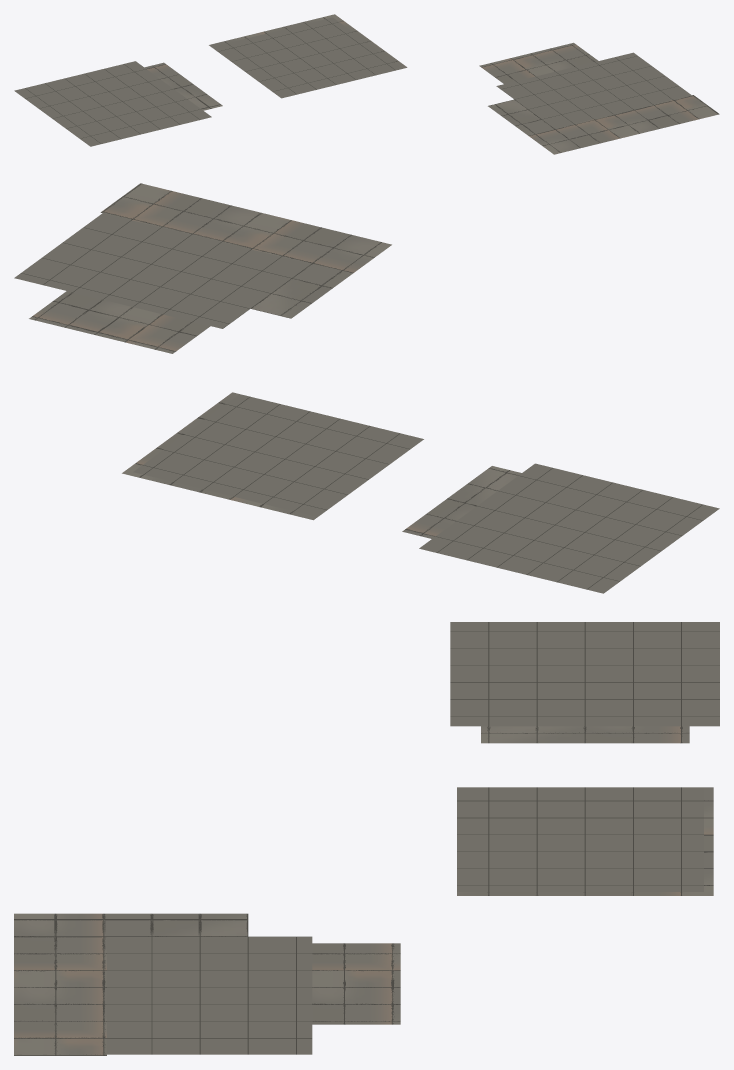
The model's file is colony-shared-floor-v001.glb.
The picture shows the model from 3 angles, top to bottom: view 1: azimuth 30°, elevation 25°; view 2: azimuth 150°, elevation 25°; view 3: azimuth 270°, elevation 25°; orthographic projection. The views are drawn at different scales.
Visible parts, largest first — view 1: ColonyFloor_Clean, ColonyFloor_Exterior; view 2: ColonyFloor_Clean, ColonyFloor_Exterior; view 3: ColonyFloor_Clean, ColonyFloor_Exterior.
Boxes of the visible parts, x1=… form: ColonyFloor_Clean: x1=14, y1=17, x2=691, y2=146; ColonyFloor_Exterior: x1=144, y1=14, x2=719, y2=154; ColonyFloor_Clean: x1=14, y1=213, x2=719, y2=593; ColonyFloor_Exterior: x1=29, y1=183, x2=521, y2=538; ColonyFloor_Clean: x1=107, y1=622, x2=719, y2=1054; ColonyFloor_Exterior: x1=14, y1=726, x2=713, y2=1055.
Bounding box in the file's own units: 32 × 0 × 22.
